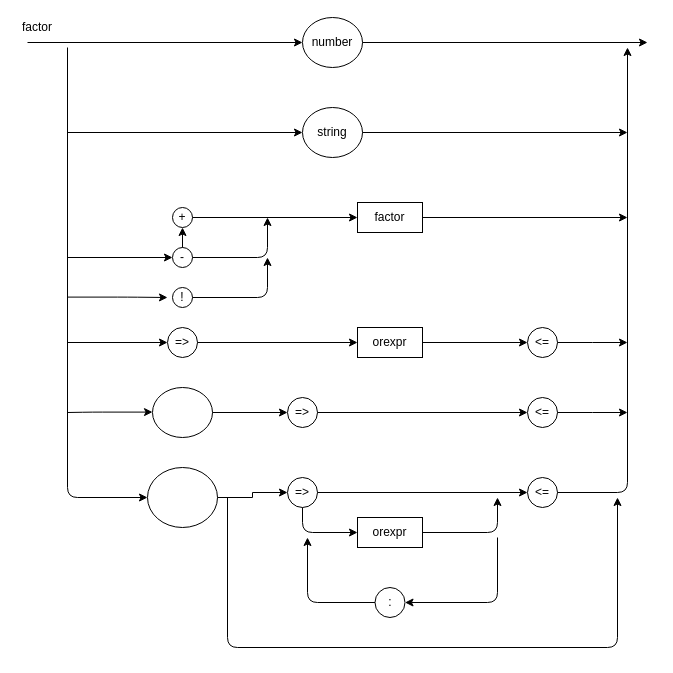
The diagram is 673 pixels wide and 673 high, and some of its shapes have lost their labels. Here are the shapes that lost their labels. From the top down, the centre of each, then its label:
pixel 182 412: ask
pixel 182 497: identifier
